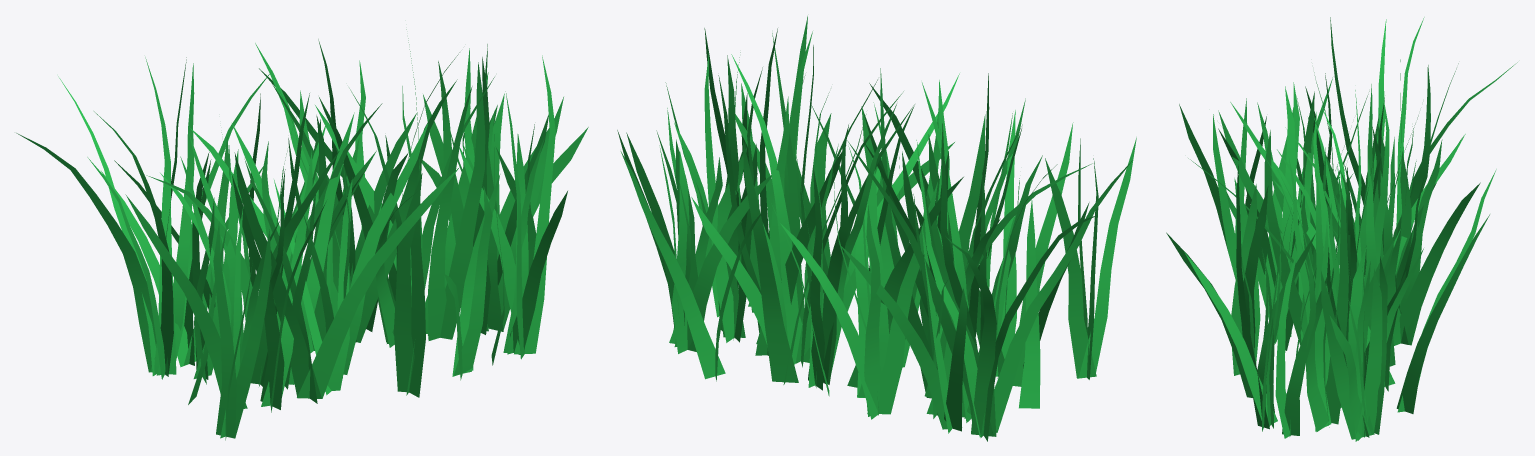
The model's file is coral_seagrass_B_dense.fbx.
3 views of the same model, side by side, from view 1: azimuth 30°, elevation 25°; view 2: azimuth 150°, elevation 25°; view 3: azimuth 270°, elevation 25° (orthographic). The views are drawn at different scales.
Parts seen in each view (by area): view 1: coral_seagrass_B_dense; view 2: coral_seagrass_B_dense; view 3: coral_seagrass_B_dense.
Part boxes in pixels (x1=…): coral_seagrass_B_dense: x1=16, y1=29, x2=588, y2=440; coral_seagrass_B_dense: x1=617, y1=16, x2=1136, y2=441; coral_seagrass_B_dense: x1=1166, y1=17, x2=1517, y2=441.
Size of the model in its own units: 198 by 110 by 131.
